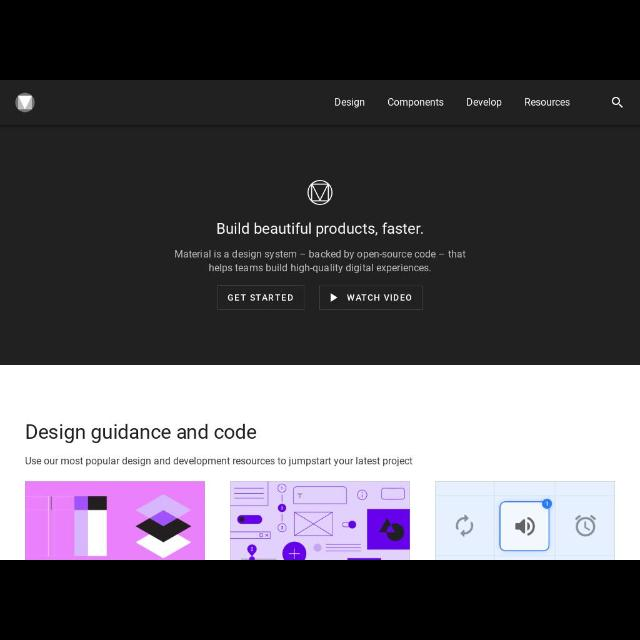icon: (308, 180, 332, 206), (612, 97, 622, 107), (330, 293, 338, 303)
image: (26, 482, 204, 560), (230, 482, 410, 558), (436, 482, 614, 558), (15, 92, 35, 111)
text: (27, 424, 255, 444), (25, 457, 412, 467), (174, 250, 466, 260), (217, 222, 423, 236), (210, 262, 430, 274), (388, 98, 444, 108), (346, 293, 412, 301), (227, 294, 293, 302), (466, 98, 502, 108), (526, 98, 570, 106), (336, 98, 364, 108)
textbutton: (320, 286, 422, 310), (218, 286, 304, 310)
toolbar: (1, 80, 640, 126)
